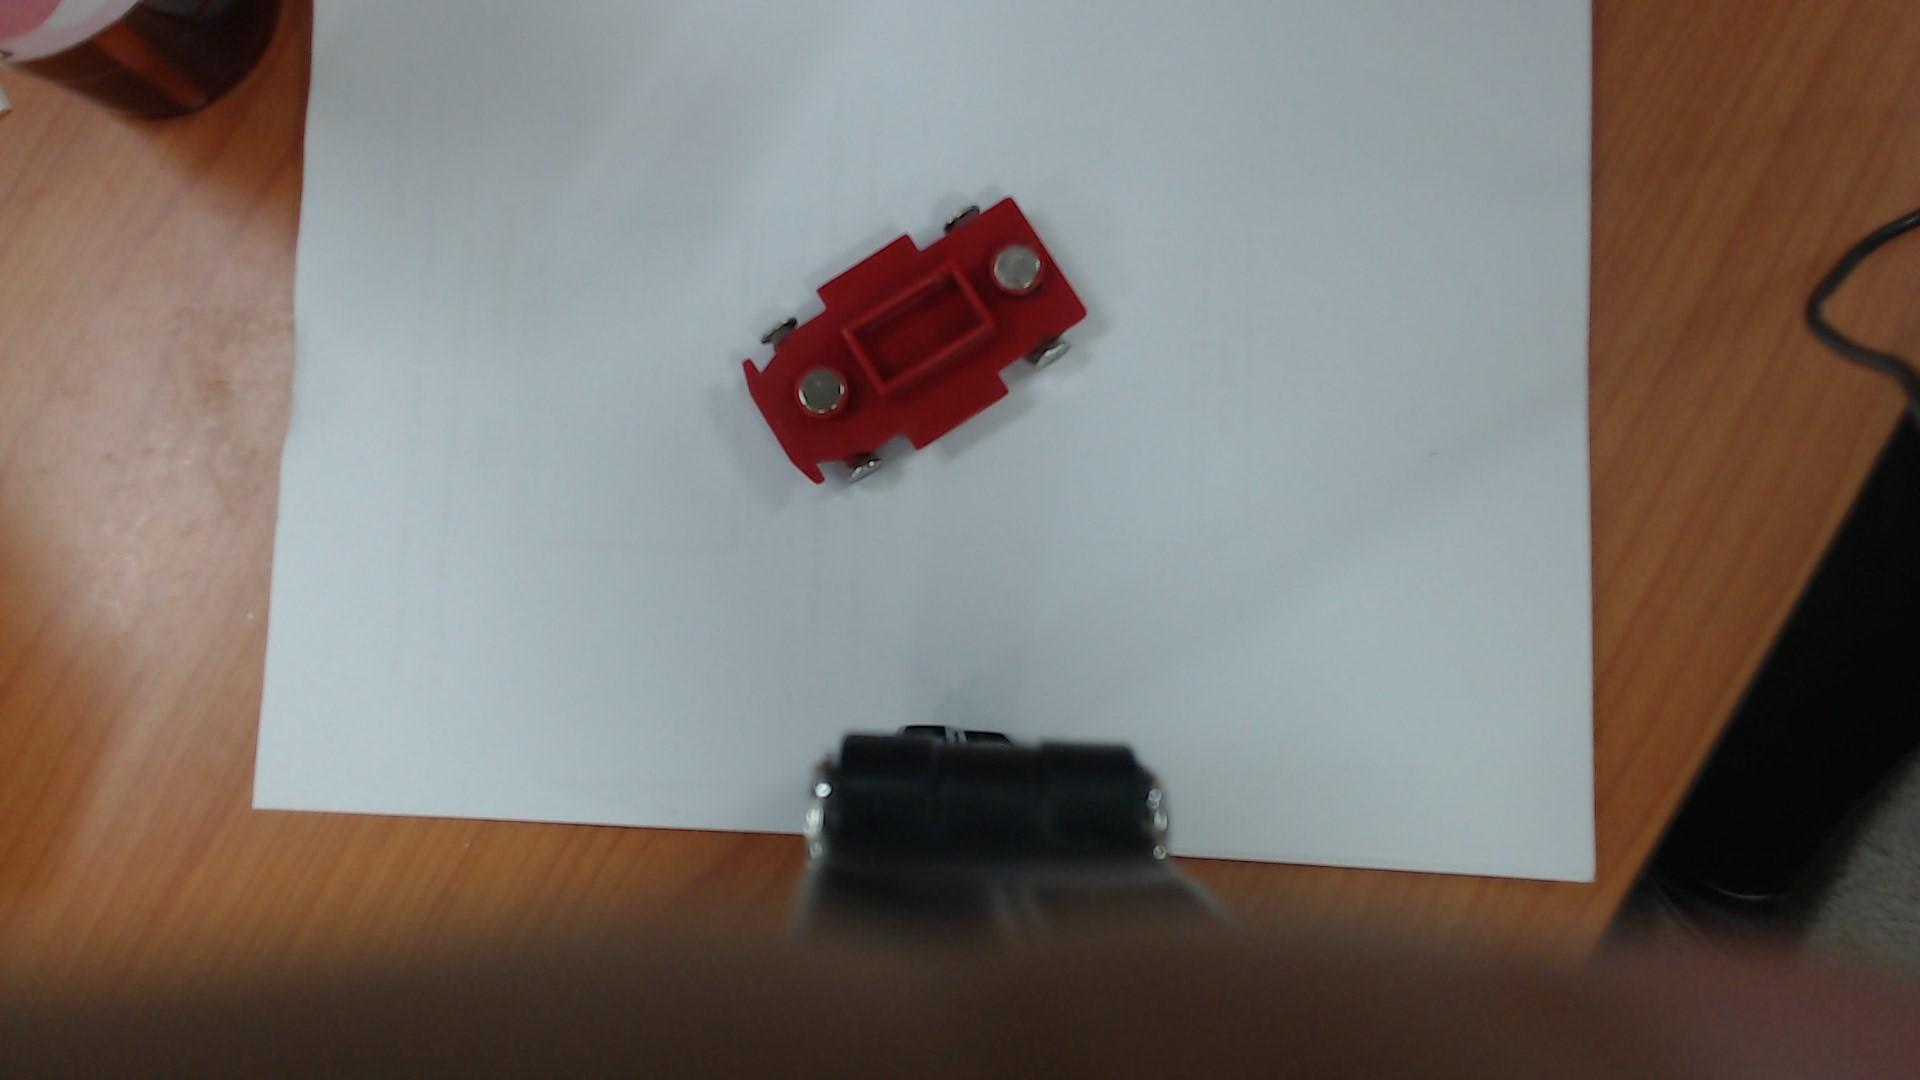lower_ok: (836, 253, 1006, 407)
